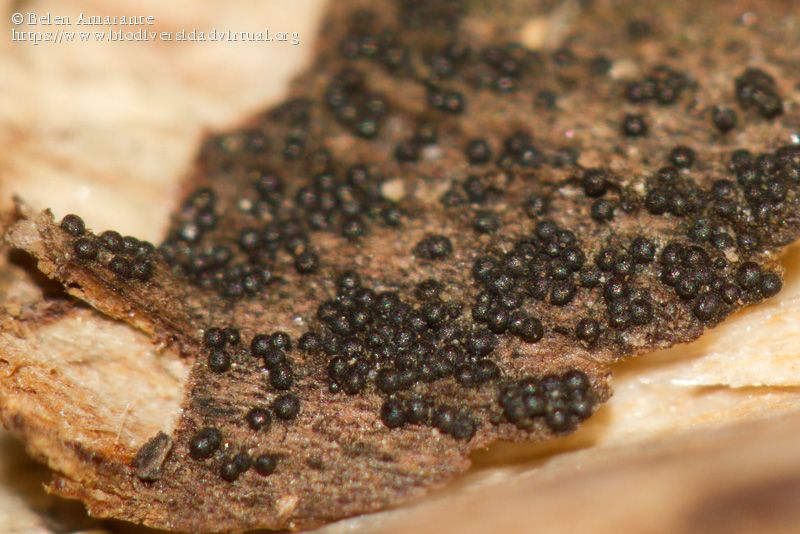pudricion radicular: (125, 53, 791, 468)
